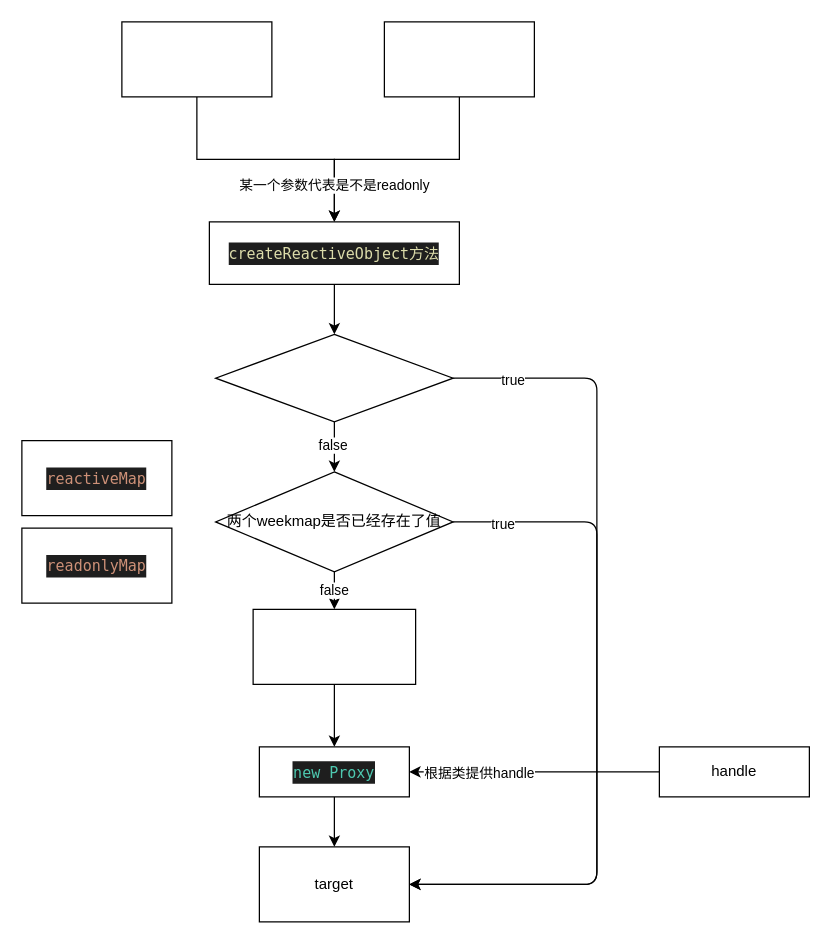
This 831x944 diagram has some shape labels left out. Each missing label, with the centre of its shape:
"getTargetType 判读是哪一种类型的值" goes at point (334, 646).
"reactive方法" goes at point (196, 59).
"readonly方法" goes at point (458, 59).
"非只读环境下的reactive？" goes at point (333, 377).
